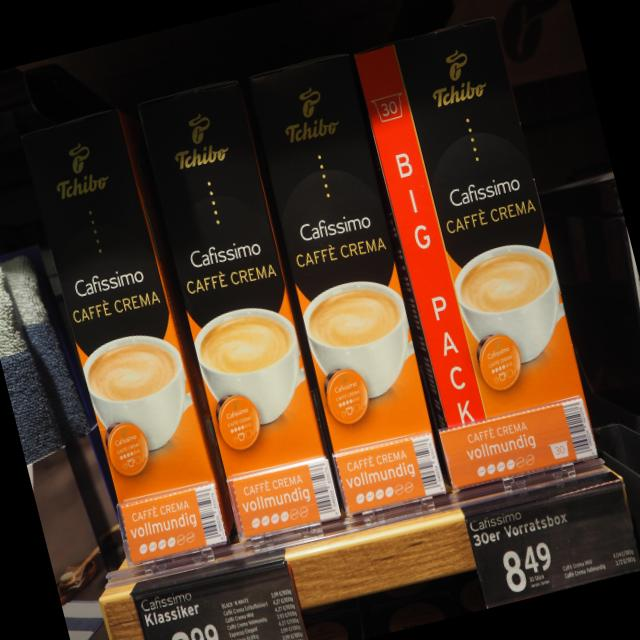Simo CCVollmundig: (348, 14, 602, 493)
Simo CCVollmundig bigpack: (131, 78, 349, 549), (22, 106, 234, 574), (238, 54, 450, 522)
